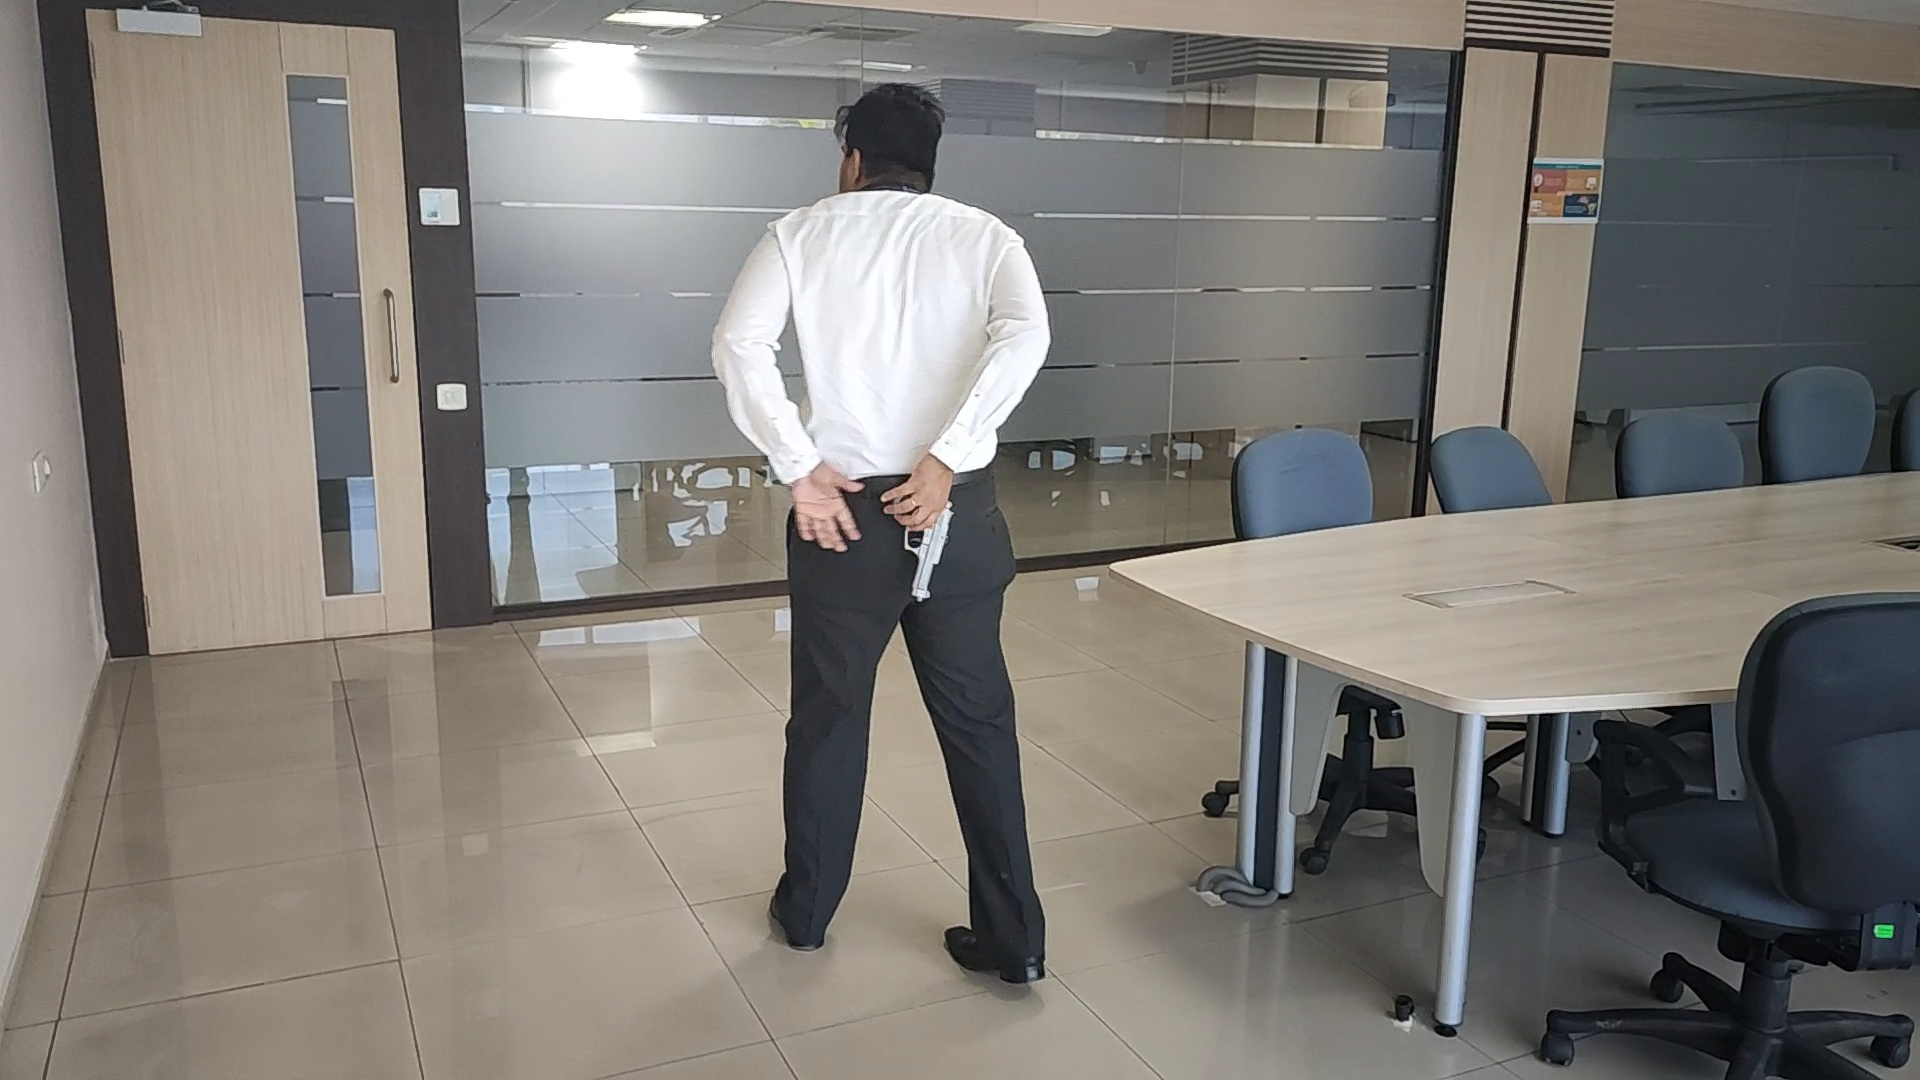gun: (902, 517, 953, 601)
